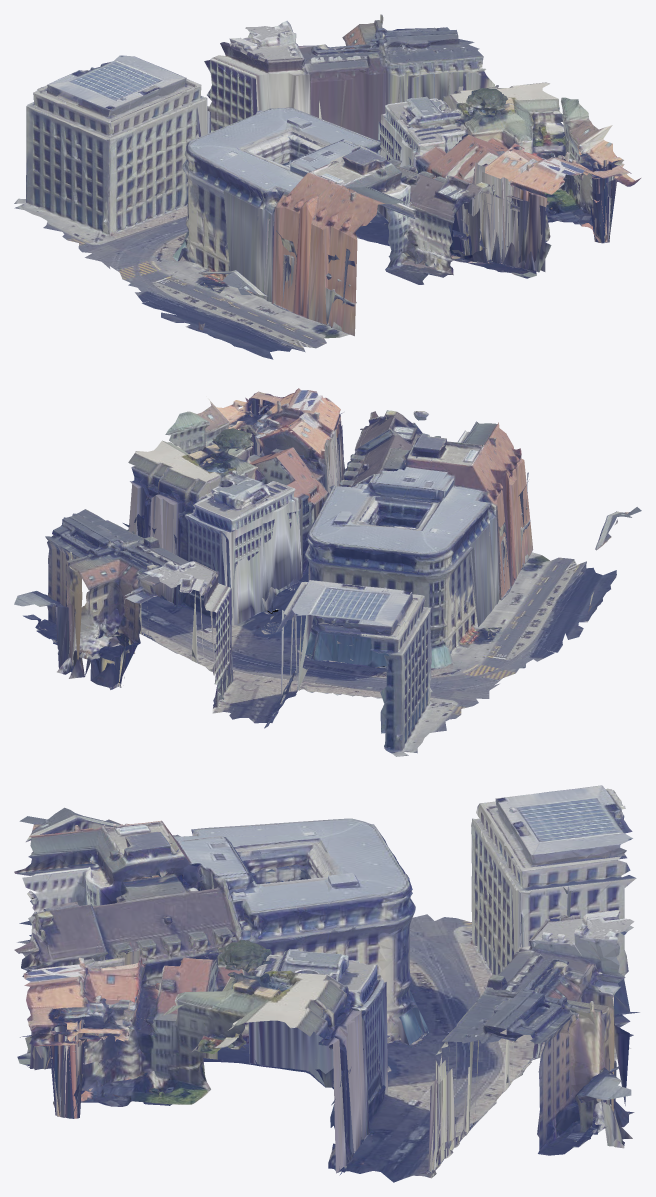
The picture shows the model from 3 angles, top to bottom: view 1: azimuth 30°, elevation 25°; view 2: azimuth 150°, elevation 25°; view 3: azimuth 270°, elevation 25°; orthographic projection. The views are drawn at different scales.
Size of the model in its own units: 109 by 35.7 by 108.
Materials: 1 (1 with a texture image).
